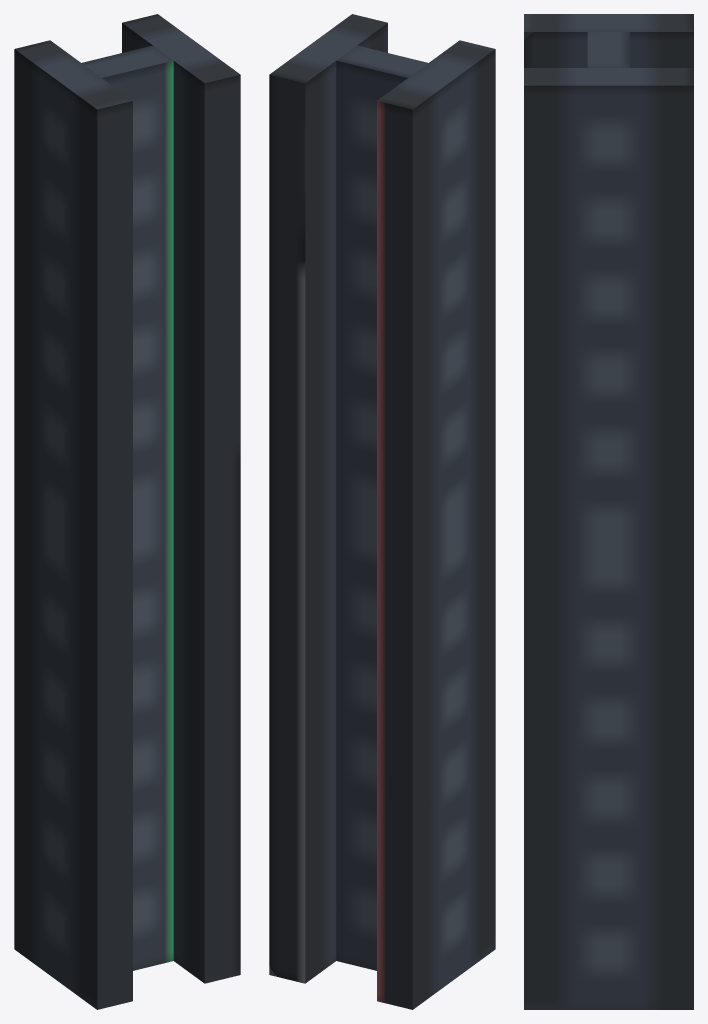
File: Girder.fbx
3 renders of one model, left to right at view 1: azimuth 30°, elevation 25°; view 2: azimuth 150°, elevation 25°; view 3: azimuth 270°, elevation 25°, orthographic. The views are drawn at different scales.
Parts seen in each view (by area): view 1: Left, Right, Middle; view 2: Left, Right, Middle; view 3: Right, Left, Middle.
Part boxes in pixels (bbox=[...]): Left: bbox=[14, 40, 132, 1009]; Right: bbox=[122, 14, 240, 983]; Middle: bbox=[82, 45, 173, 970]; Left: bbox=[377, 40, 495, 1009]; Right: bbox=[269, 14, 387, 983]; Middle: bbox=[336, 45, 427, 970]; Right: bbox=[524, 68, 693, 1009]; Left: bbox=[524, 14, 693, 67]; Middle: bbox=[587, 32, 630, 67].
Bounding box in the file's own units: 50 × 300 × 50.
1 material, 1 textured.
